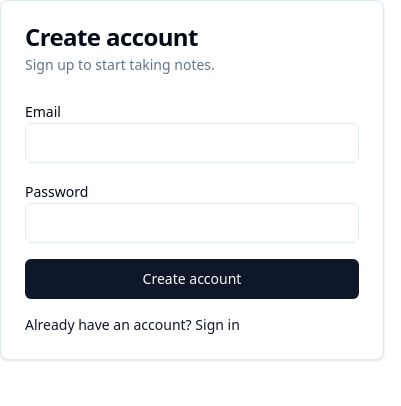
Scenario: auth-ui › Registration screen › maps server 400 field errors onto inputs
The width and height of the screenshot is (401, 406).
Type "new@b.com" into the field labelled "Email".
click(192, 143); type("new@b.com")  # box left=25, top=123, right=359, bottom=163
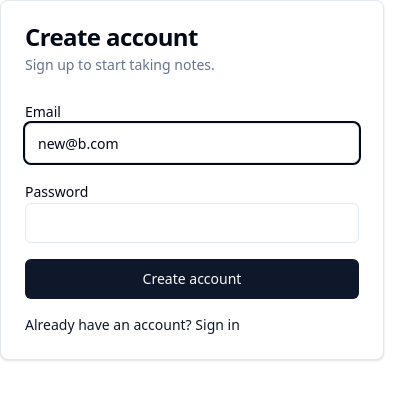
Type "Passw0rd" into the password field labelled "Password".
click(192, 223); type("Passw0rd")  # box left=25, top=203, right=359, bottom=243
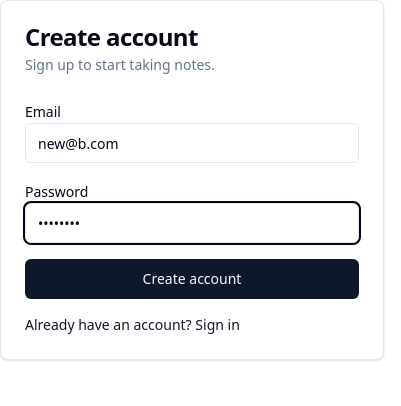
Click the button "Create account".
click(192, 279)  # box left=25, top=259, right=359, bottom=299
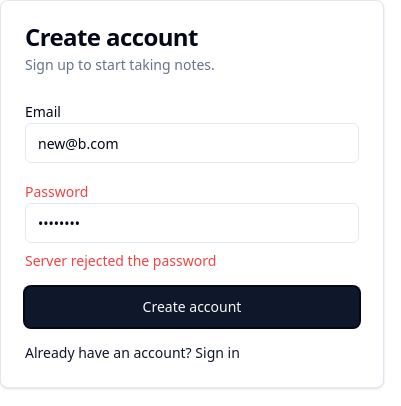
Check: the text "Server rejected the password" is shown, box left=25, top=251, right=216, bottom=270
